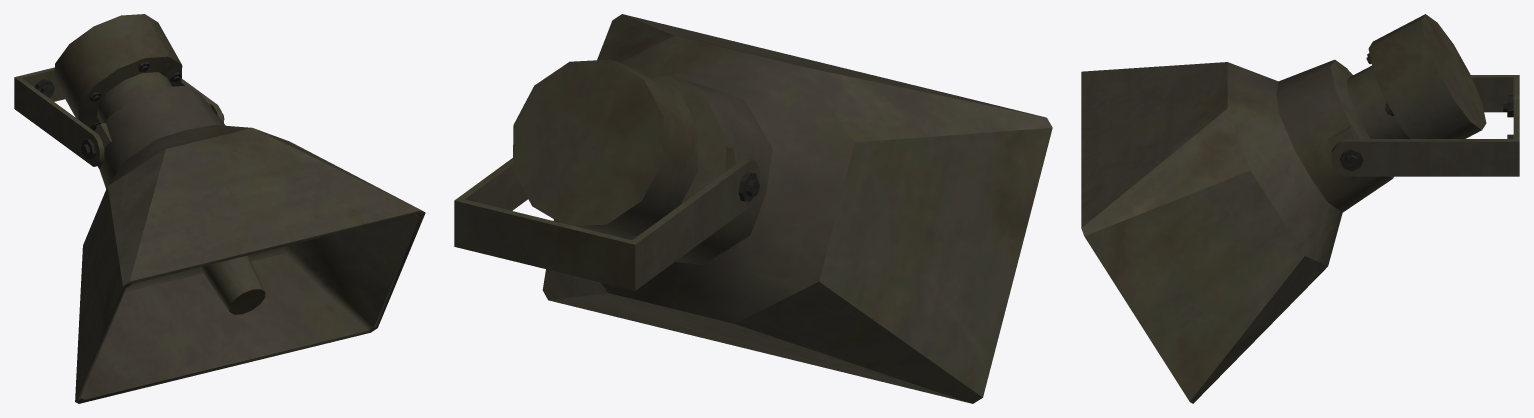
The model's file is speaker_mx_1.obj.
3 renders of one model, left to right at view 1: azimuth 30°, elevation 25°; view 2: azimuth 150°, elevation 25°; view 3: azimuth 270°, elevation 25°, orthographic. The views are drawn at different scales.
Visible parts, largest first — view 1: speaker_mx_1; view 2: speaker_mx_1; view 3: speaker_mx_1.
Part boxes in pixels (left/top/right/bottom): speaker_mx_1: left=14, top=14, right=425, bottom=403; speaker_mx_1: left=454, top=14, right=1052, bottom=403; speaker_mx_1: left=1081, top=14, right=1519, bottom=403.
Bounding box in the file's own units: 0.4947 × 0.4325 × 0.564.
